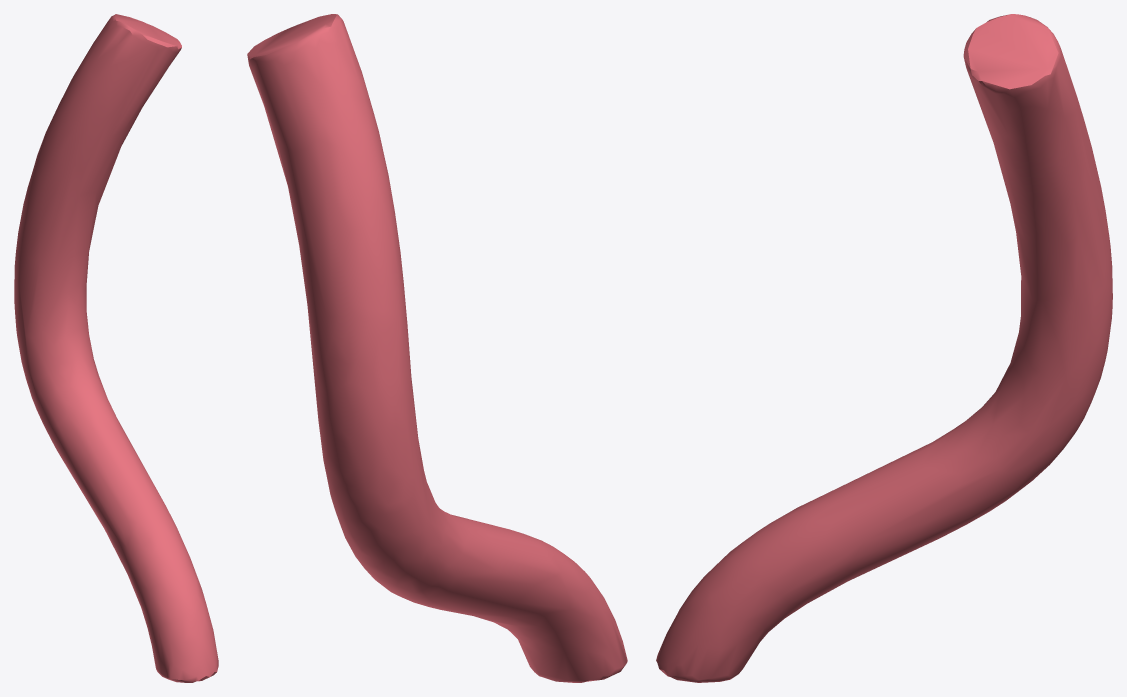
Rendered from fma18806.glb.
The picture shows the model from 3 angles, left to right: view 1: azimuth 30°, elevation 25°; view 2: azimuth 150°, elevation 25°; view 3: azimuth 270°, elevation 25°; orthographic projection. The views are drawn at different scales.
Visible parts, largest first — view 1: FMA18806; view 2: FMA18806; view 3: FMA18806.
Boxes of the visible parts, box(x1,y1,x2,y2) form: FMA18806: box(14, 14, 218, 682); FMA18806: box(247, 14, 627, 682); FMA18806: box(656, 14, 1112, 682).
Size of the model in its own units: 0.026 by 0.0954 by 0.0574.
